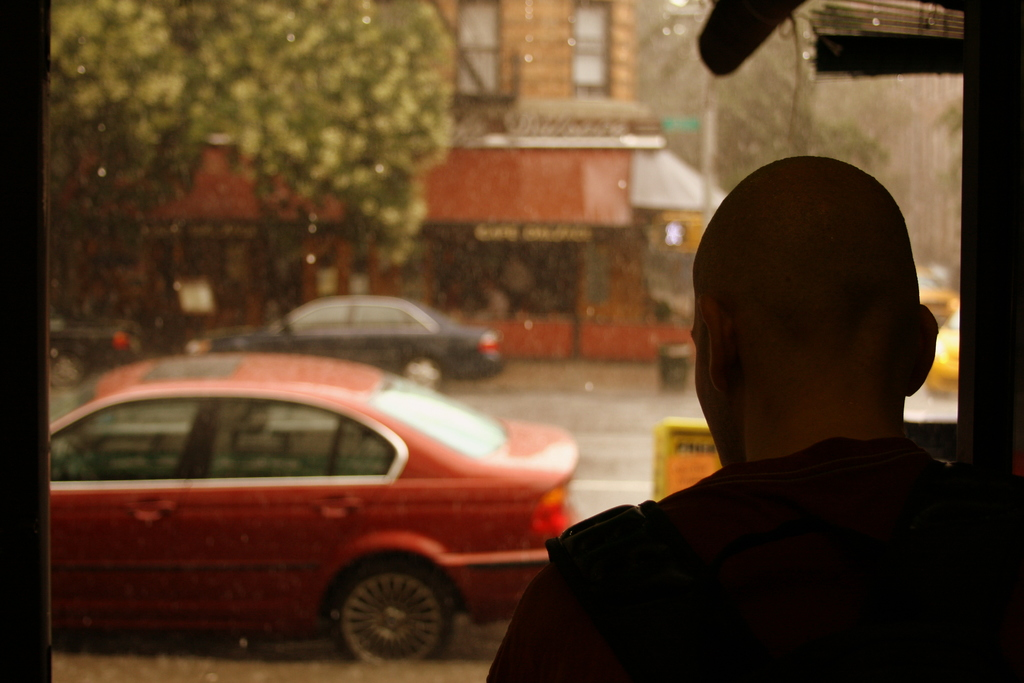Car: (48, 354, 582, 661), (183, 293, 506, 394), (49, 317, 138, 389)
